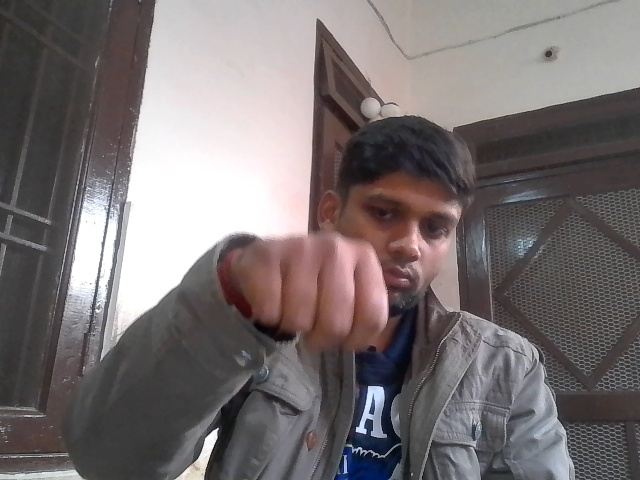Yes: (235, 224, 406, 362)
